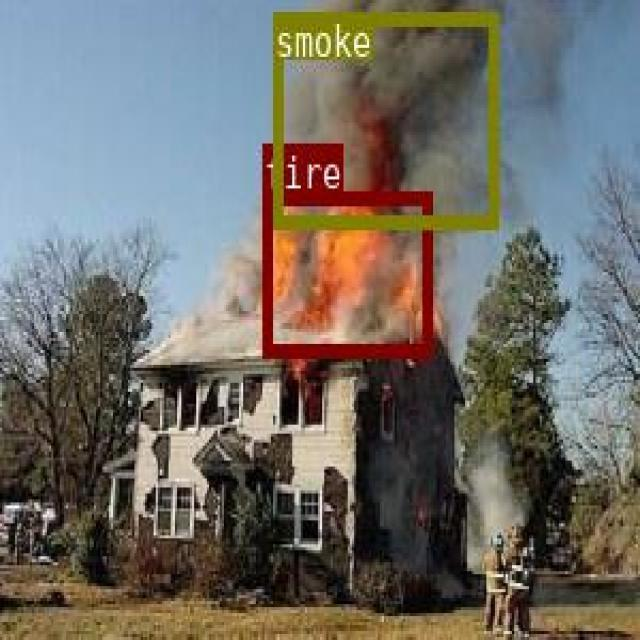fire: (261, 191, 431, 356)
smoke: (272, 10, 497, 226)
